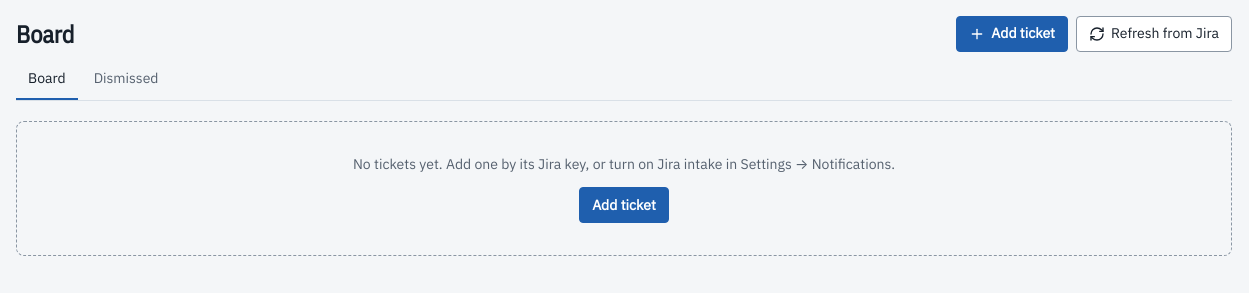
Board › says where to turn on intake when Refresh from Jira can't run
Expected: the text "No tickets yet" is shown, [353, 155, 895, 173]
Click the button "Refresh from Jira".
click(1154, 34)  # box [1076, 16, 1232, 52]
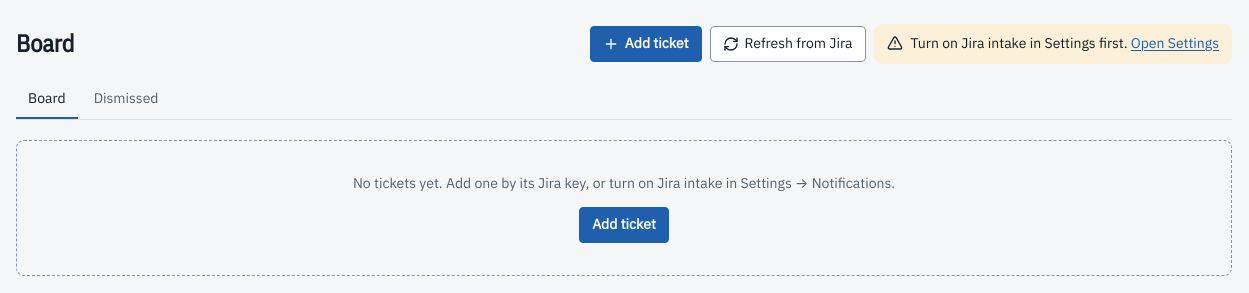
Expected: the text "Turn on Jira intake in Settings first. Open Settings" is shown, [910, 33, 1219, 55]
